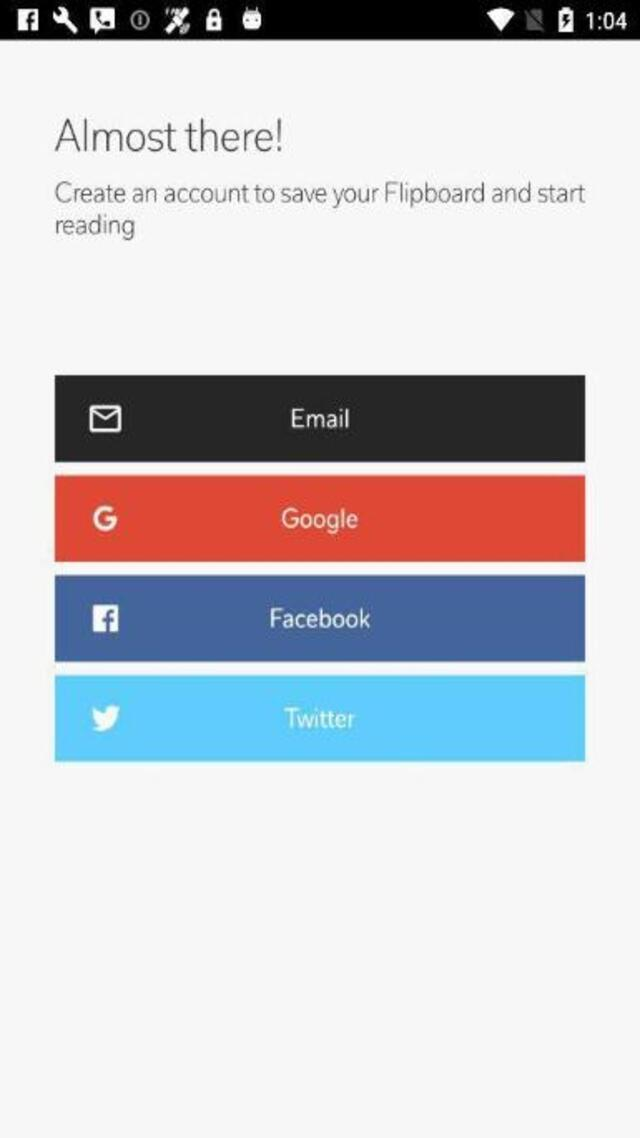Icon: (89, 703, 123, 735), (88, 504, 123, 533), (90, 601, 120, 633), (88, 405, 122, 432)
Text: (51, 177, 590, 210), (54, 117, 282, 153), (51, 212, 140, 246), (264, 605, 374, 631), (275, 504, 361, 536), (280, 703, 359, 734), (286, 404, 352, 432)
TextButton: (53, 374, 585, 462), (53, 574, 585, 661), (53, 474, 585, 561), (54, 673, 584, 760)
